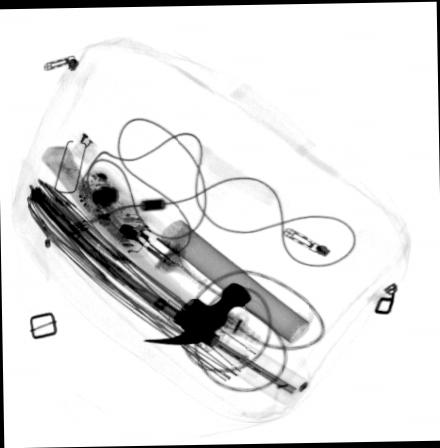Hammer: (40, 144, 252, 344)
